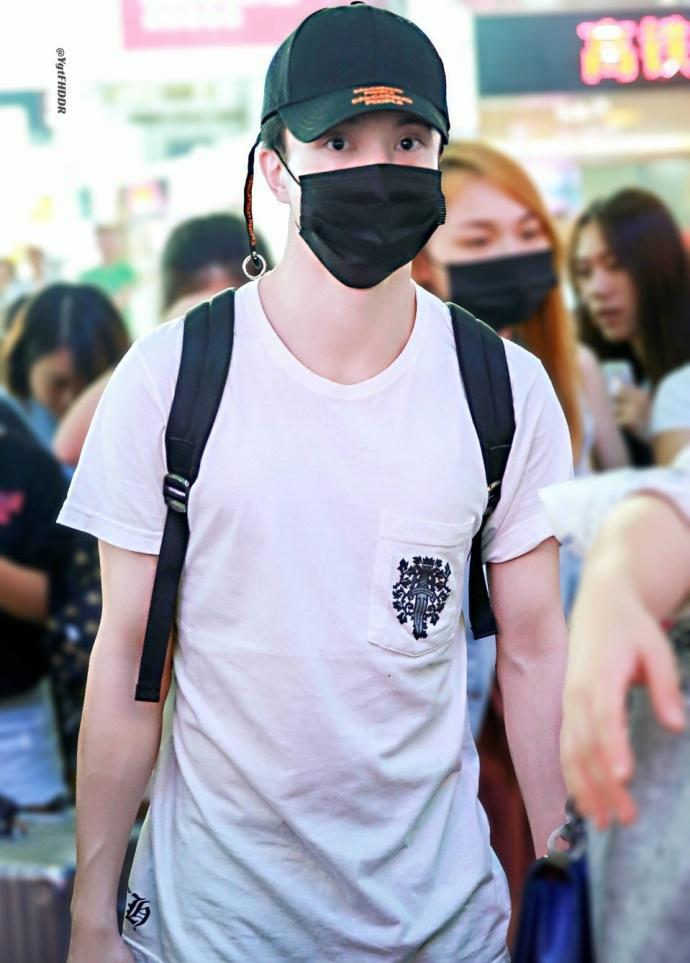NONE: (571, 251, 644, 336)
OK: (281, 109, 451, 279), (434, 201, 574, 331)
